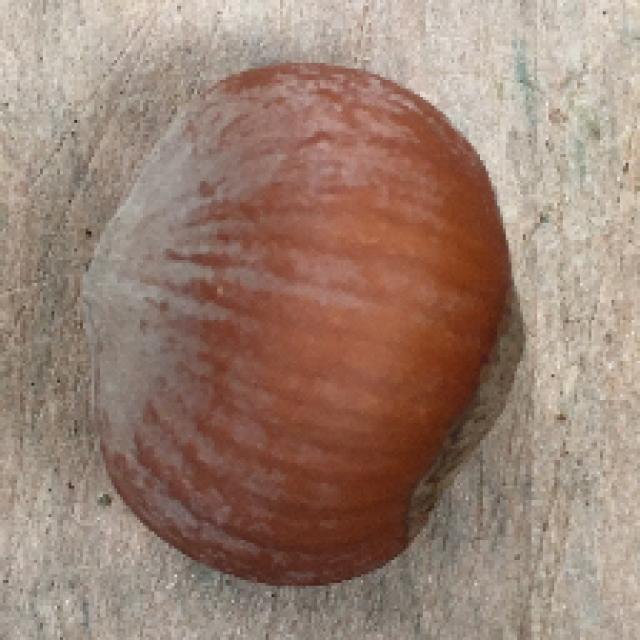qualityHazelnut: (80, 63, 524, 588)
